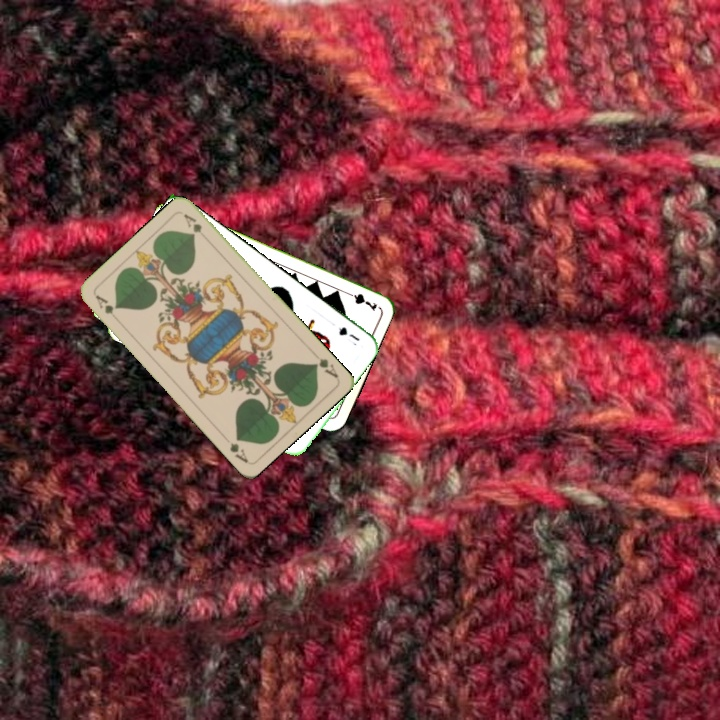G7: (341, 287, 380, 314)
GA: (308, 348, 341, 380), (91, 291, 119, 316)
GU: (334, 322, 362, 344)
